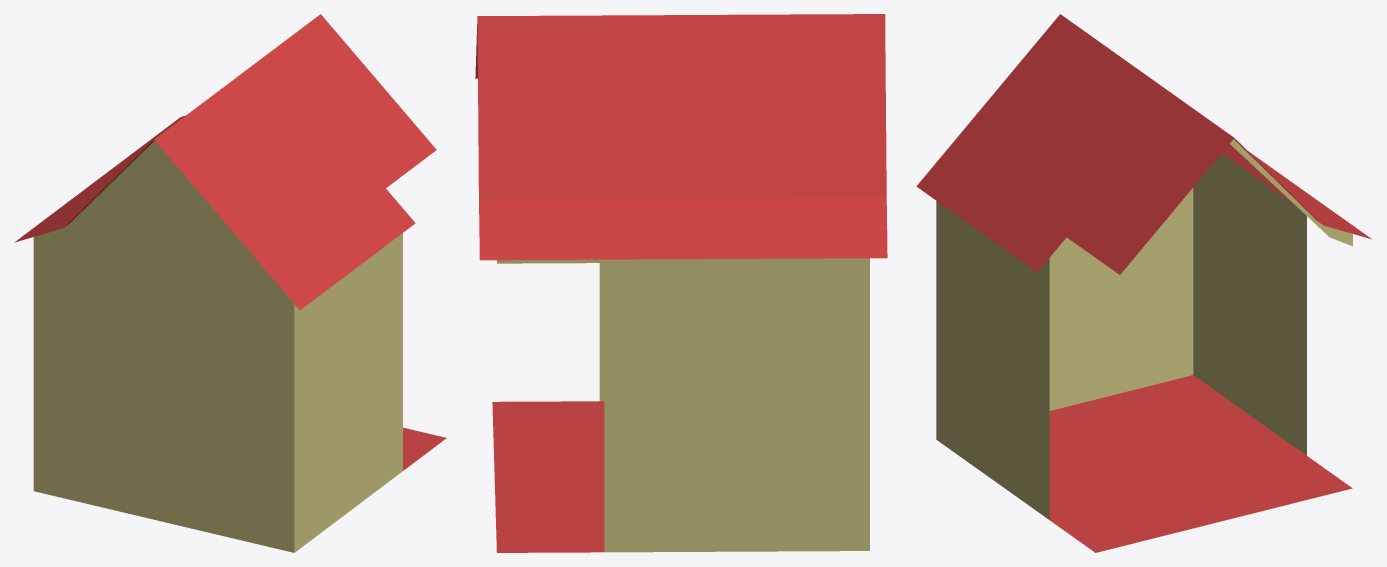
3 renders of one model, left to right at view 1: azimuth 30°, elevation 25°; view 2: azimuth 150°, elevation 25°; view 3: azimuth 270°, elevation 25°, orthographic. The views are drawn at different scales.
Bounding box in the file's own units: 15.32 × 15.77 × 14.77.
